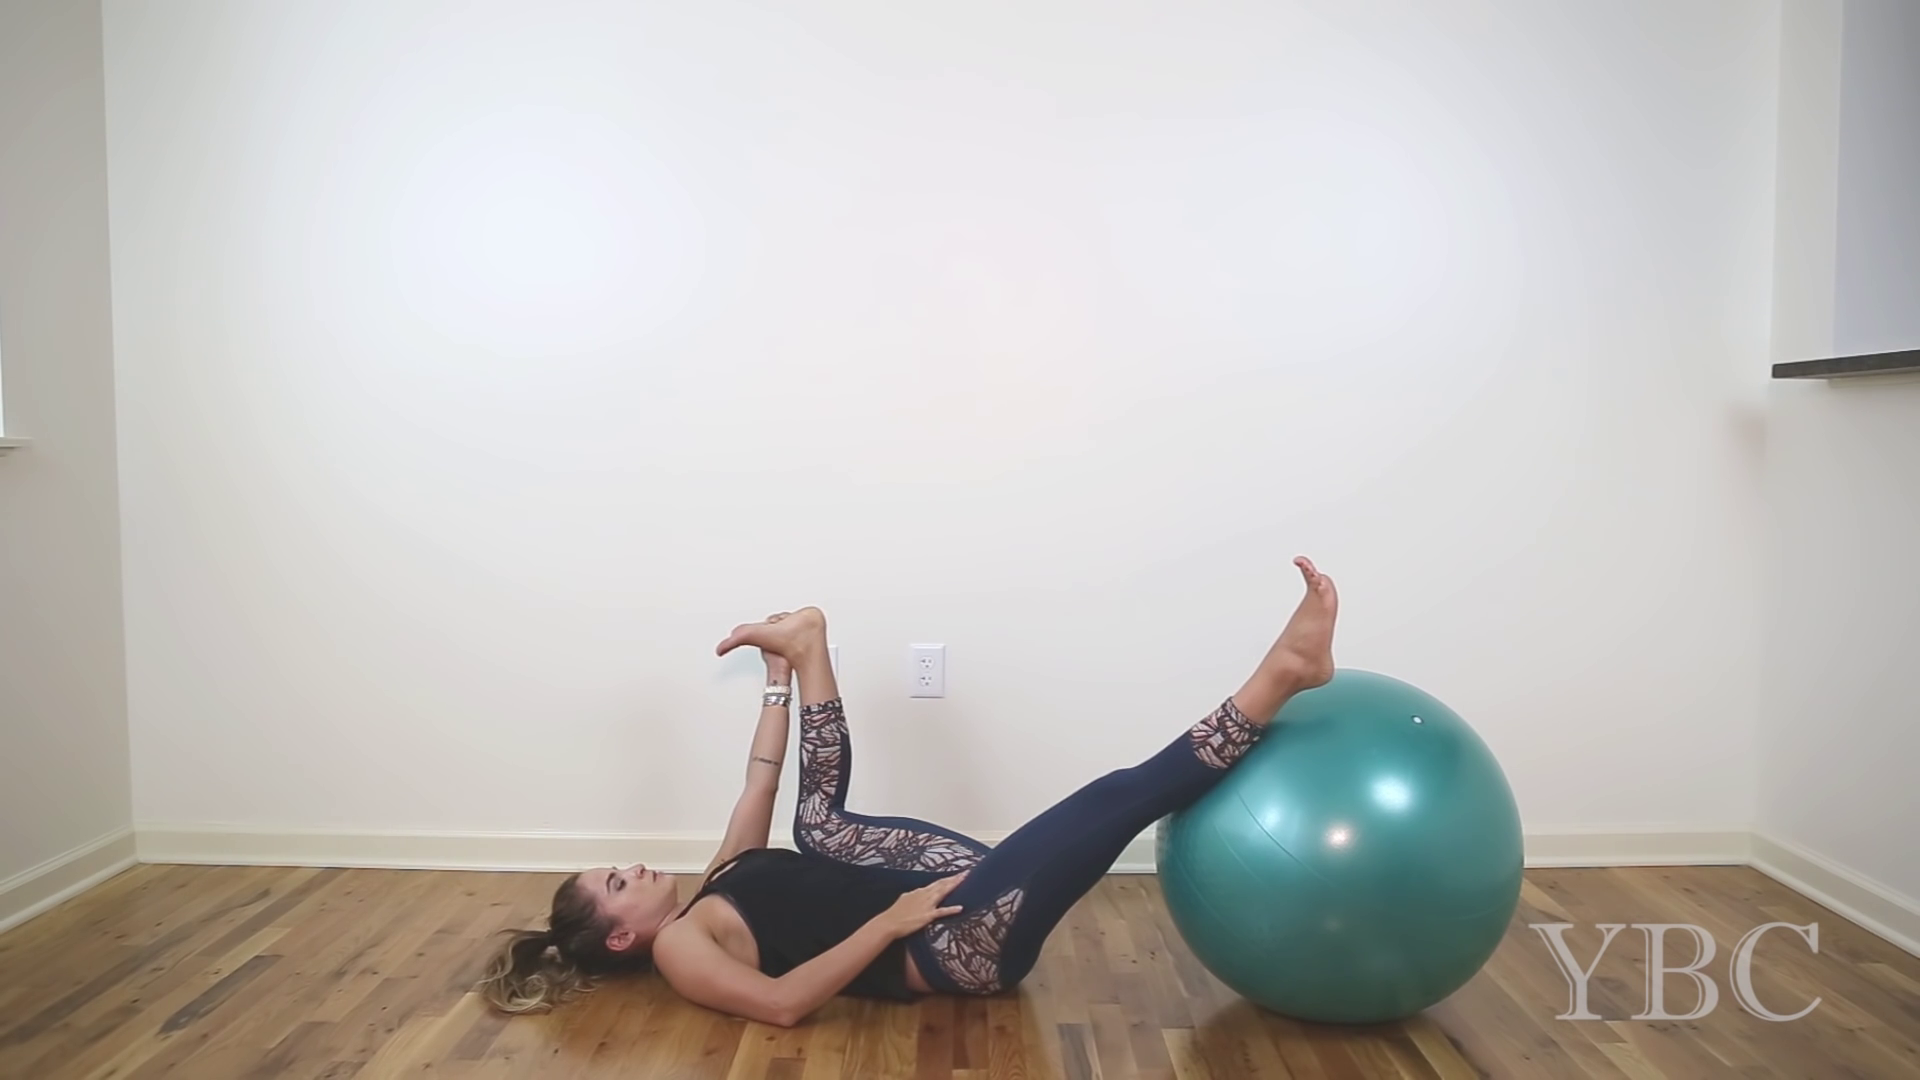yogaball: (1143, 661, 1539, 1040)
